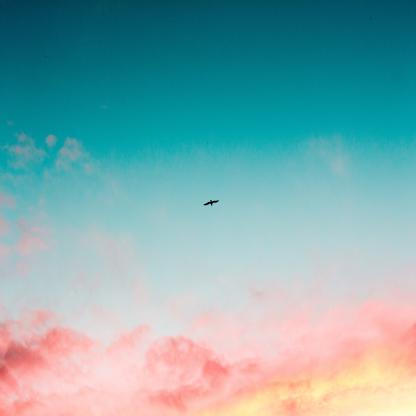bird: (203, 199, 219, 207)
